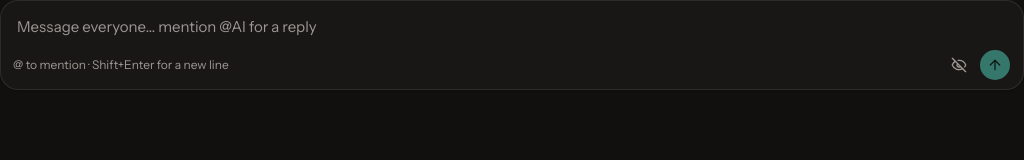
Test: Composer mentions › won't send off the record with the AI mentioned, and says why
This screenshot has width=1024, height=160.
Later steps or results of the test are not shown.
Type "@" into the text box labelled "Message" at (512, 27), box [9,9,1015,45]
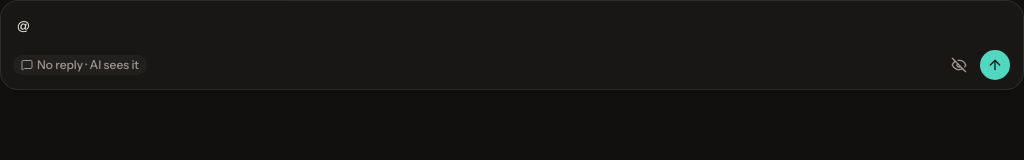
Press Enter in the text box named "Message", box [9,9,1015,45]
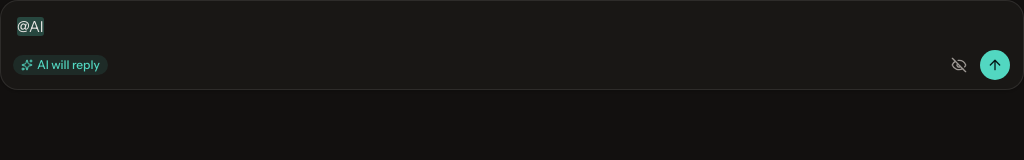
Replace the text in the text box named "Message" with "@AI secret" at (512, 27), box [9,9,1015,45]
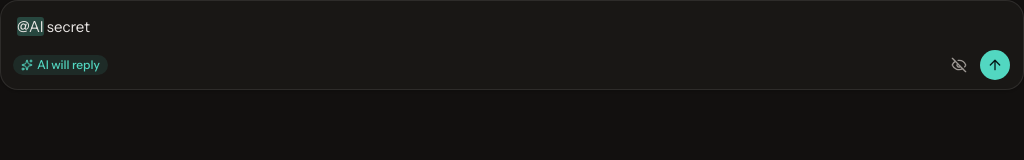
Click the button named "Off the record" at (959, 65), box [943,49,975,81]
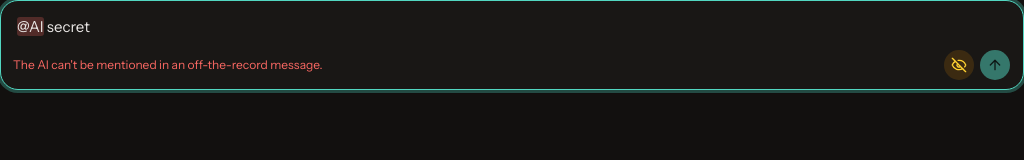
Now the text "The AI can't be mentioned in an off-the-record message." is shown, box [13,57,323,73]
Now the button named "Send message" is disabled, box [979,49,1011,81]
